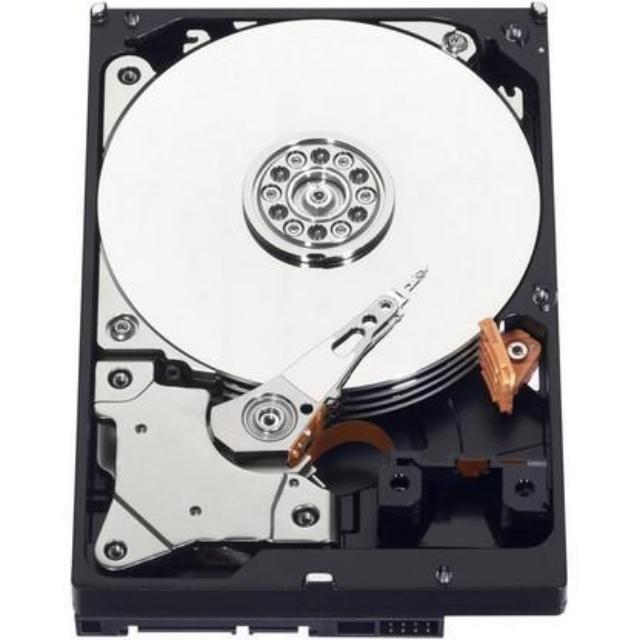DISK: (79, 0, 572, 631)
